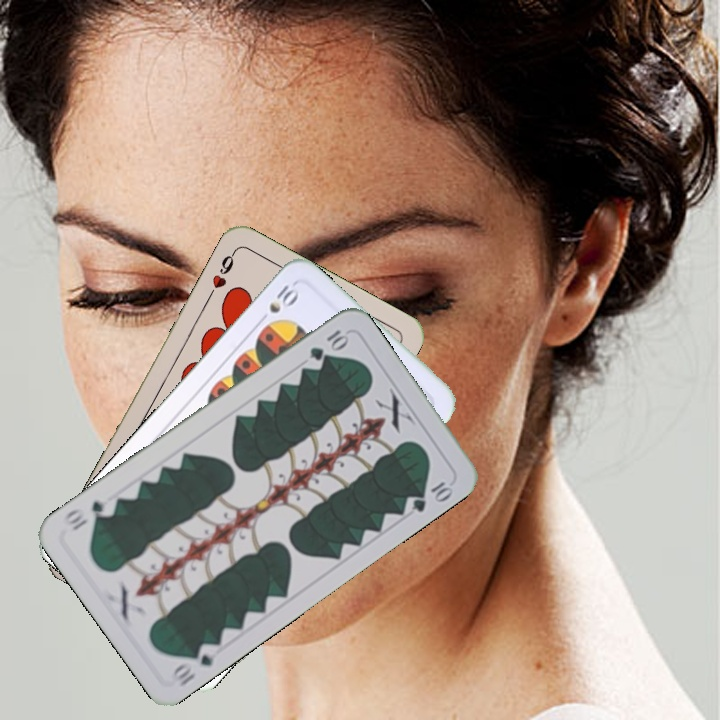G10: (168, 638, 222, 690), (305, 325, 351, 364)
H9: (204, 247, 239, 301)
S10: (253, 279, 302, 327)
